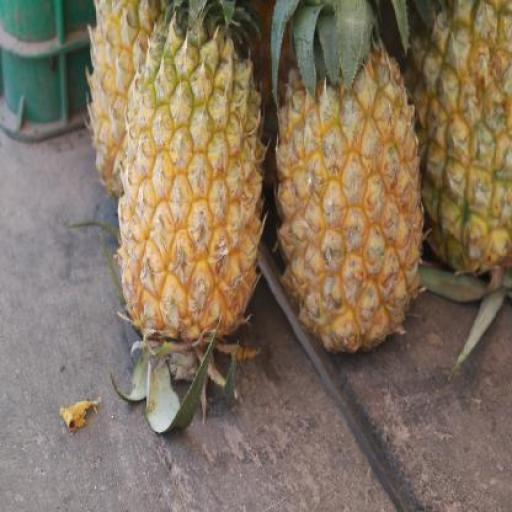------------------------------: (420, 0, 510, 278)
Pineapple - v8 v1: (119, 27, 264, 351), (274, 43, 424, 345), (88, 0, 186, 203)
